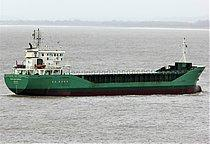Ship: (3, 28, 206, 98)
